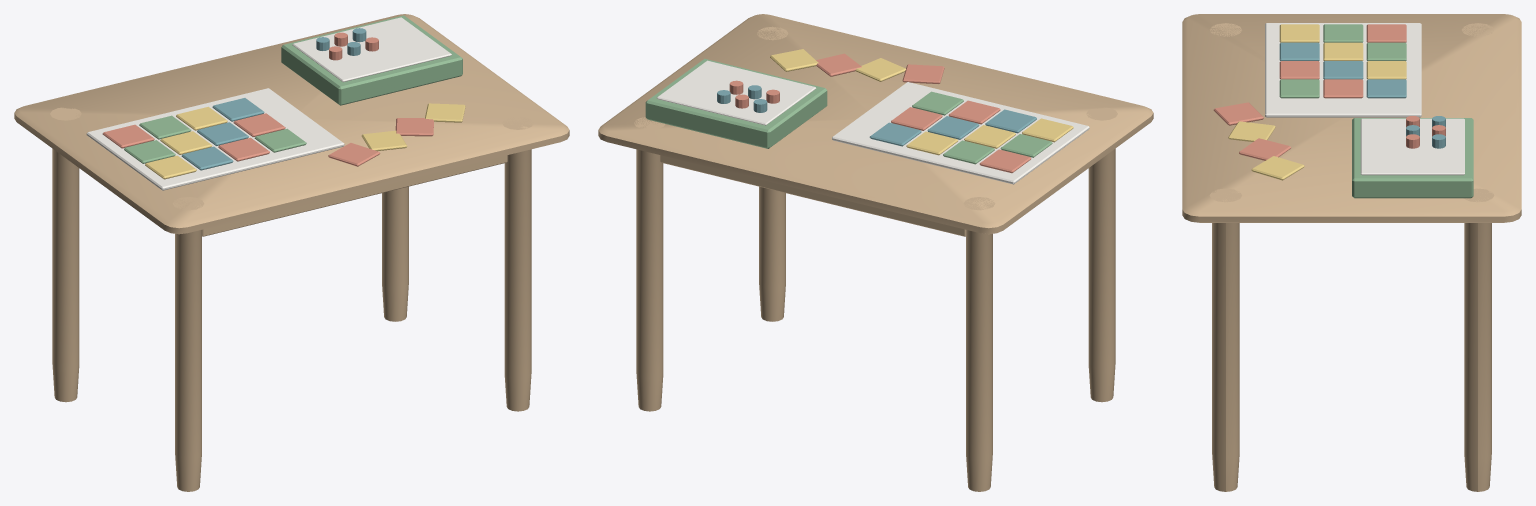
Rendered from care-home-and-day-room-activity-table-aefbfc61__35736.glb.
The picture shows the model from 3 angles, left to right: view 1: azimuth 30°, elevation 25°; view 2: azimuth 150°, elevation 25°; view 3: azimuth 270°, elevation 25°; orthographic projection. The views are drawn at different scales.
Parts seen in each view (by area): view 1: activity-table; view 2: activity-table; view 3: activity-table.
Boxes of the visible parts, box(x1,y1,x2,y2) form: activity-table: box(14, 14, 569, 491); activity-table: box(598, 14, 1153, 491); activity-table: box(1182, 14, 1521, 491).
Size of the model in its own units: 1.1 by 0.818 by 0.78.
